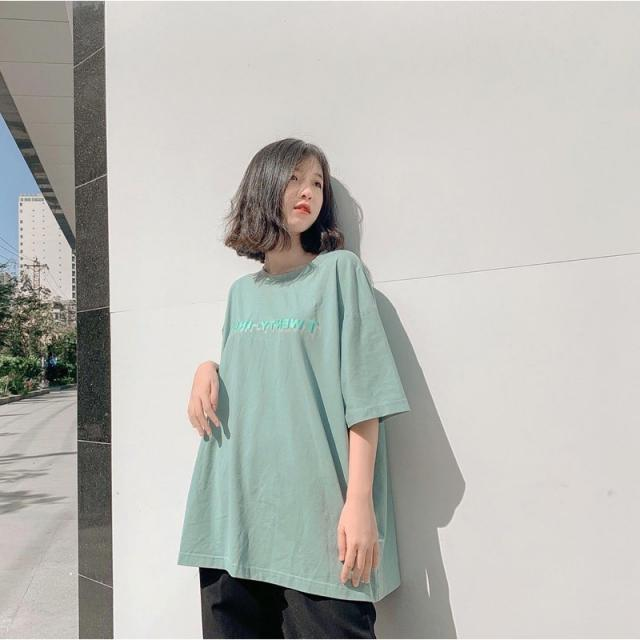Standing: (175, 126, 412, 640)
